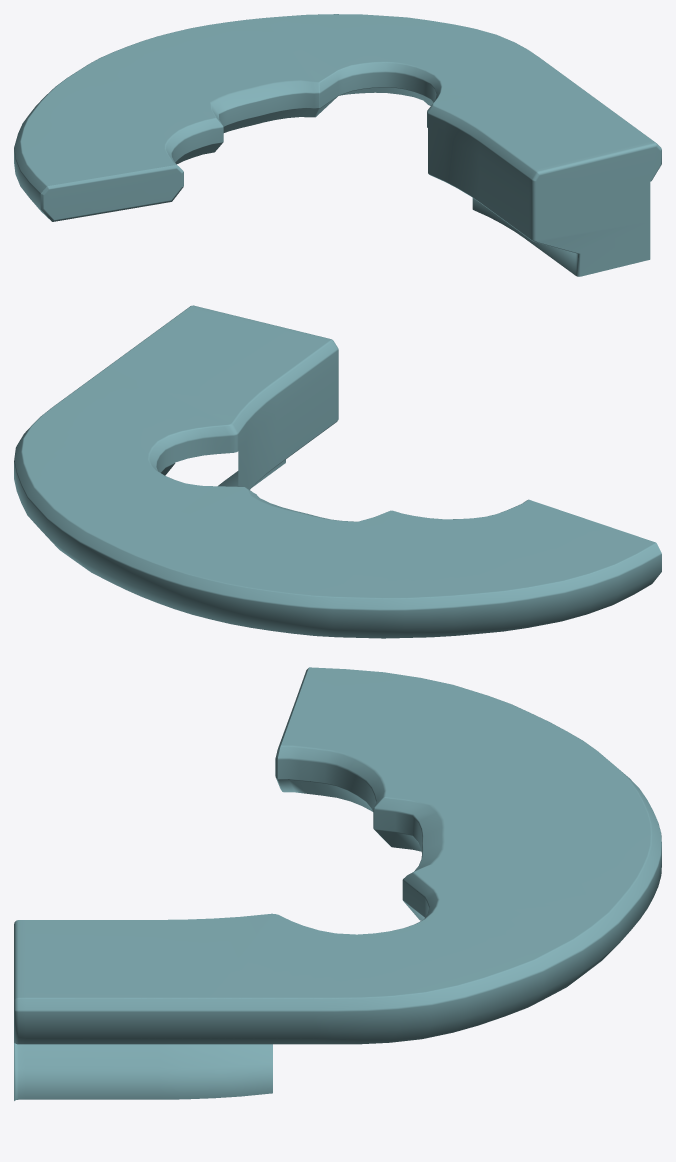
The model's file is table_base.fbx.
3 renders of one model, top to bottom at view 1: azimuth 30°, elevation 25°; view 2: azimuth 150°, elevation 25°; view 3: azimuth 270°, elevation 25°, orthographic. The views are drawn at different scales.
Visible parts, largest first — view 1: table_base; view 2: table_base; view 3: table_base.
Part boxes in pixels (x1=…): table_base: x1=14, y1=14, x2=661, y2=276; table_base: x1=14, y1=305, x2=661, y2=638; table_base: x1=14, y1=667, x2=661, y2=1100.
Size of the model in its own units: 604 by 129 by 489.
